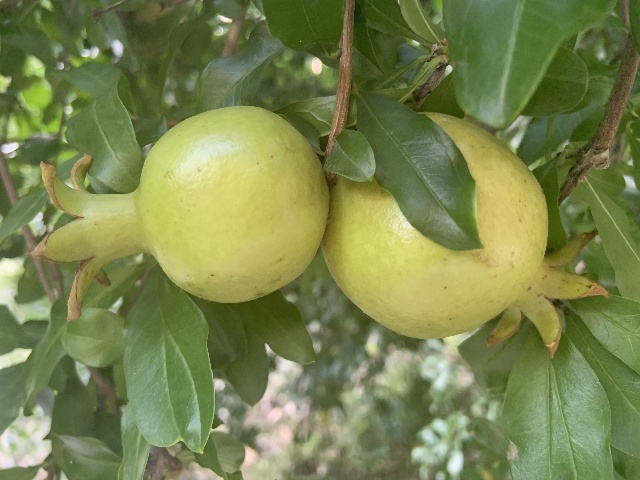mid-growth: (324, 113, 609, 358), (29, 105, 326, 325)
